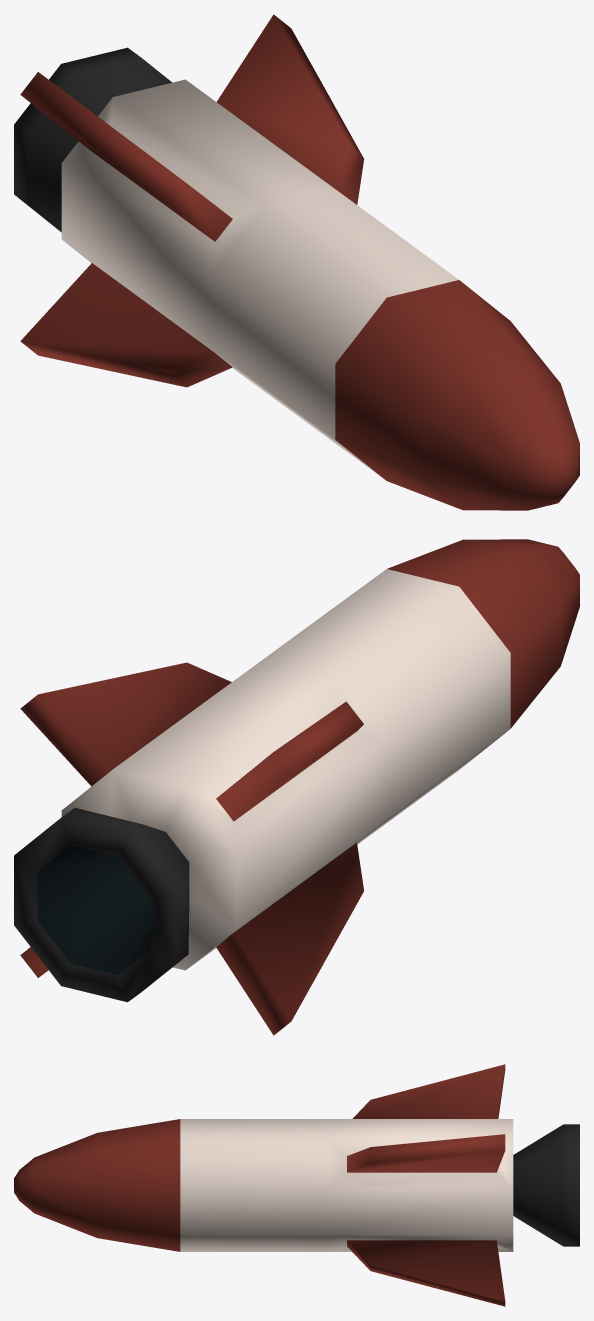
File: missile_1.fbx
The picture shows the model from 3 angles, top to bottom: view 1: azimuth 30°, elevation 25°; view 2: azimuth 150°, elevation 25°; view 3: azimuth 270°, elevation 25°; orthographic projection. The views are drawn at different scales.
Visible parts, largest first — view 1: missile_1; view 2: missile_1; view 3: missile_1.
Part boxes in pixels (x1,y1,x2,y2): missile_1: [14, 14, 579, 510]; missile_1: [14, 539, 579, 1035]; missile_1: [14, 1064, 579, 1306].
Bounding box in the file's own units: 0.0961 × 0.2856 × 0.0961.
